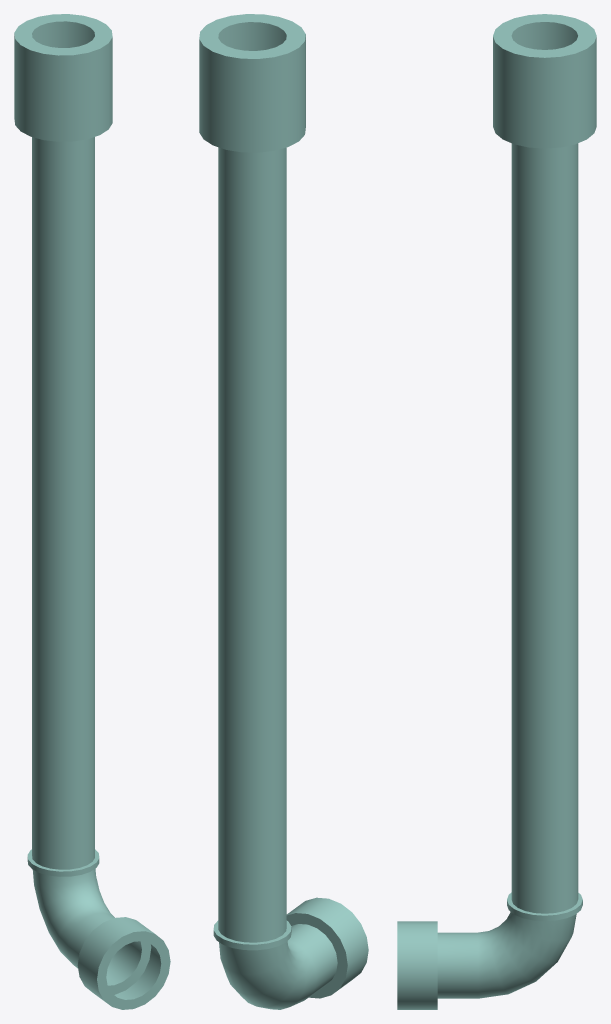
Rendered from Pipe_Vertical_5.fbx.
3 renders of one model, left to right at view 1: azimuth 30°, elevation 25°; view 2: azimuth 150°, elevation 25°; view 3: azimuth 270°, elevation 25°, orthographic. The views are drawn at different scales.
Visible parts, largest first — view 1: Pipe_Vertical_5; view 2: Pipe_Vertical_5; view 3: Pipe_Vertical_5.
Boxes of the visible parts, x1,y1,x2,y2 form: Pipe_Vertical_5: [14, 14, 170, 1009]; Pipe_Vertical_5: [199, 14, 368, 1009]; Pipe_Vertical_5: [397, 14, 596, 1009].
Size of the model in its own units: 20.03 by 206 by 38.49.
